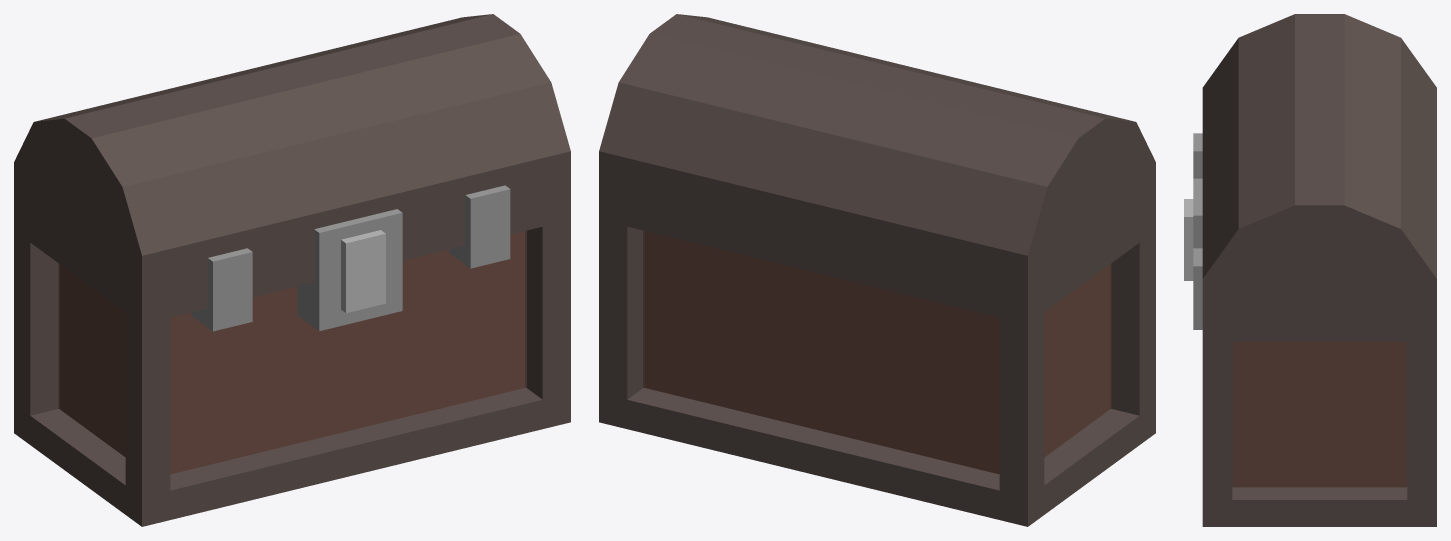
File: Ship_011.glb
3 views of the same model, side by side, from view 1: azimuth 30°, elevation 25°; view 2: azimuth 150°, elevation 25°; view 3: azimuth 270°, elevation 25° (orthographic). The views are drawn at different scales.
Visible parts, largest first — view 1: Ship_011; view 2: Ship_011; view 3: Ship_011.
Part boxes in pixels (box(x1,y1,x2,y2)): Ship_011: box(14, 14, 570, 526); Ship_011: box(599, 14, 1155, 526); Ship_011: box(1184, 14, 1436, 526).
Bounding box in the file's own units: 1.1 × 0.8643 × 0.6159.
Materials: 1 (1 with a texture image).
